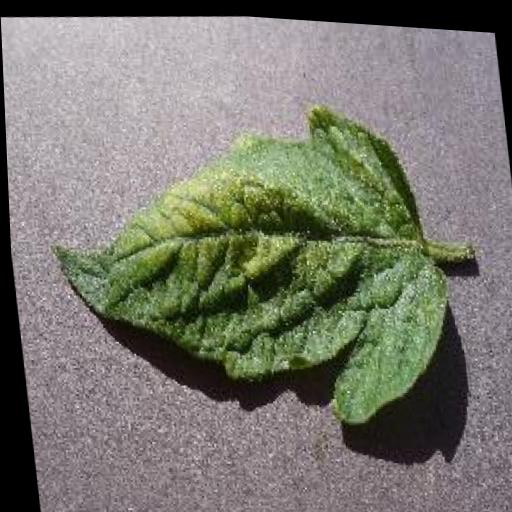Spider Mites: (33, 77, 462, 444)
